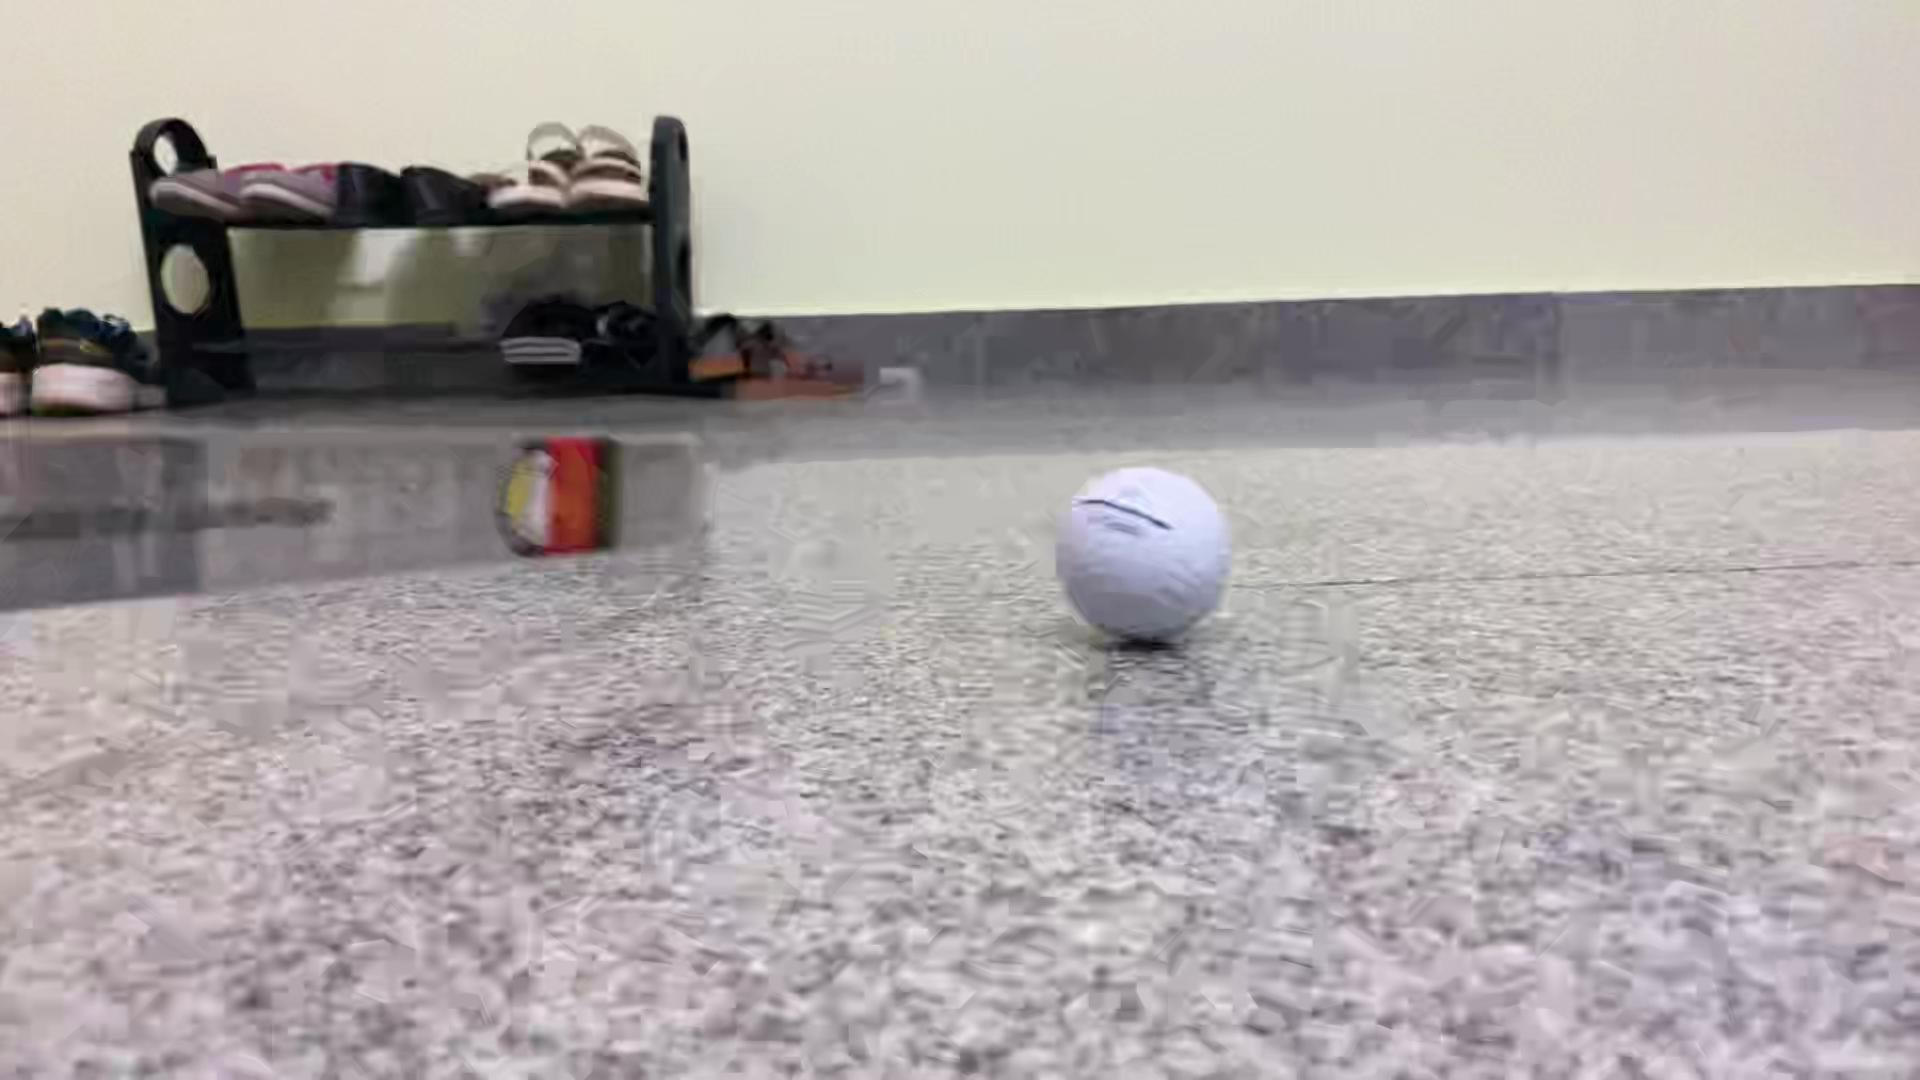golfball: (1053, 467, 1233, 643)
